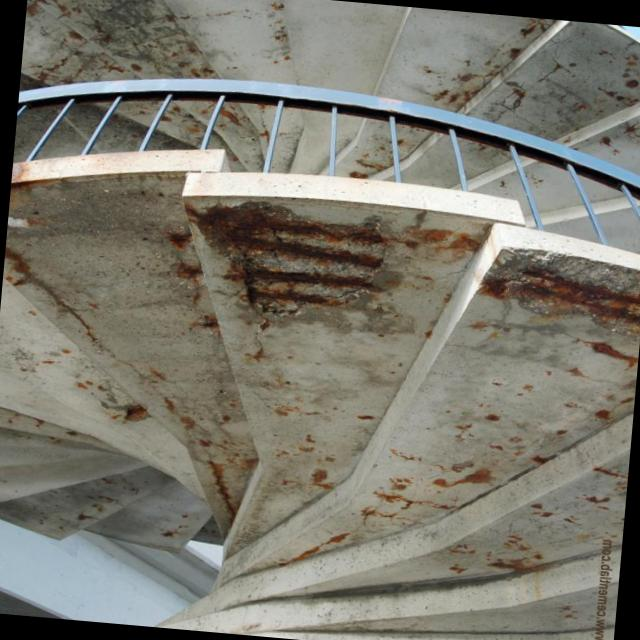spalling: (186, 198, 390, 315), (490, 251, 640, 337)
